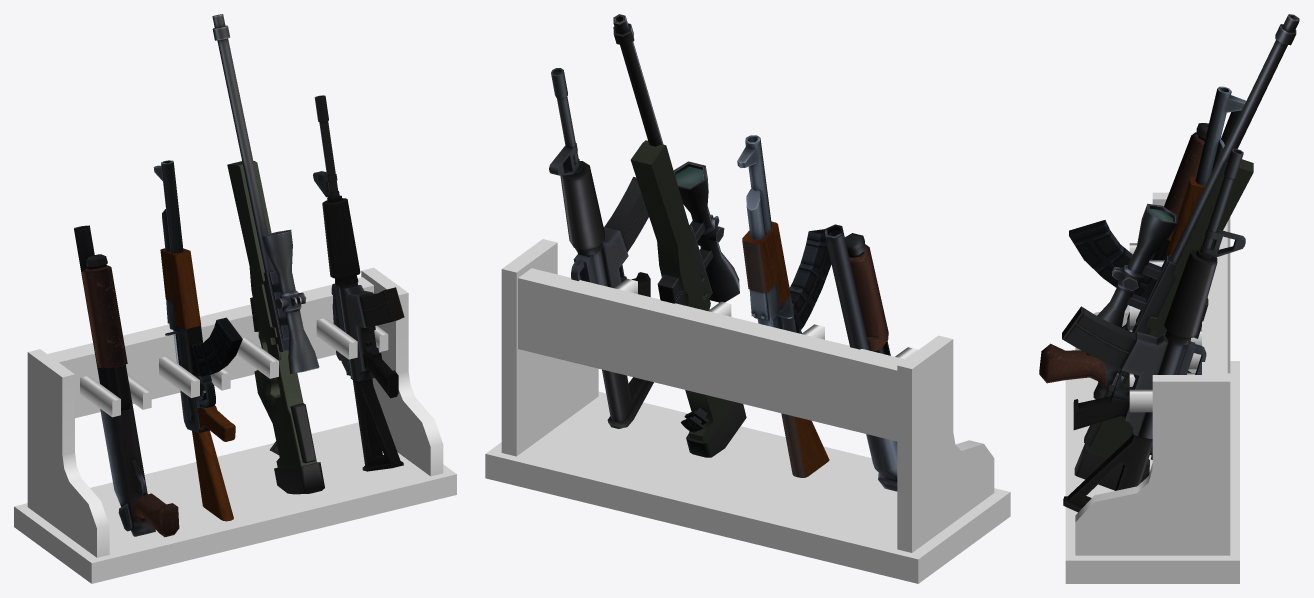
The model's file is Armory shelf.fbx.
3 views of the same model, side by side, from view 1: azimuth 30°, elevation 25°; view 2: azimuth 150°, elevation 25°; view 3: azimuth 270°, elevation 25° (orthographic). The views are drawn at different scales.
Visible parts, largest first — view 1: ArmoryShelf, awp, m16, Ak47, Sawed-off; view 2: ArmoryShelf, awp, Ak47, m16, Sawed-off; view 3: ArmoryShelf, m16, awp, Ak47, Sawed-off.
Part boxes in pixels (x1,y1,x2,y2): ArmoryShelf: [14, 267, 456, 583]; awp: [212, 14, 324, 494]; m16: [313, 95, 404, 471]; Ak47: [153, 160, 242, 521]; Sawed-off: [74, 225, 179, 537]; ArmoryShelf: [485, 239, 1010, 583]; awp: [613, 14, 746, 457]; Ak47: [737, 135, 831, 477]; m16: [549, 68, 653, 428]; Sawed-off: [825, 224, 897, 491]; ArmoryShelf: [1065, 192, 1239, 583]; m16: [1062, 148, 1245, 512]; awp: [1074, 14, 1299, 490]; Ak47: [1069, 86, 1246, 355]; Sawed-off: [1039, 110, 1241, 399].
Bounding box in the file's own units: 1.09 × 1.26 × 0.6008.
